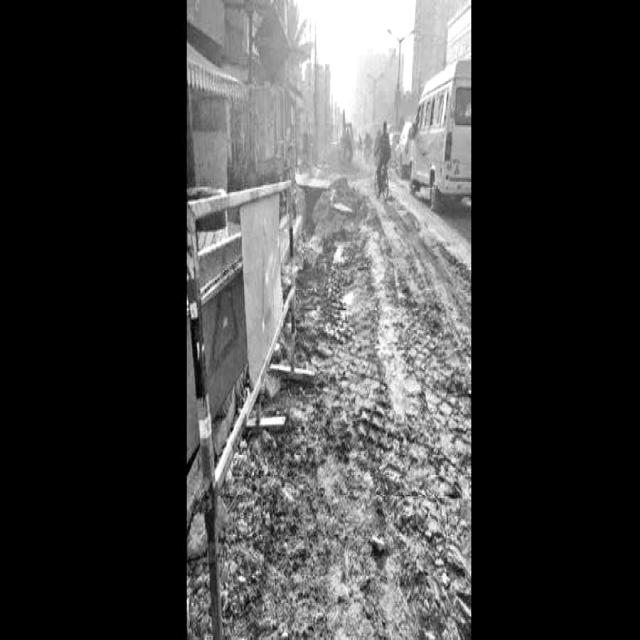pathole: (87, 171, 427, 640), (181, 377, 578, 640), (296, 169, 505, 536)
